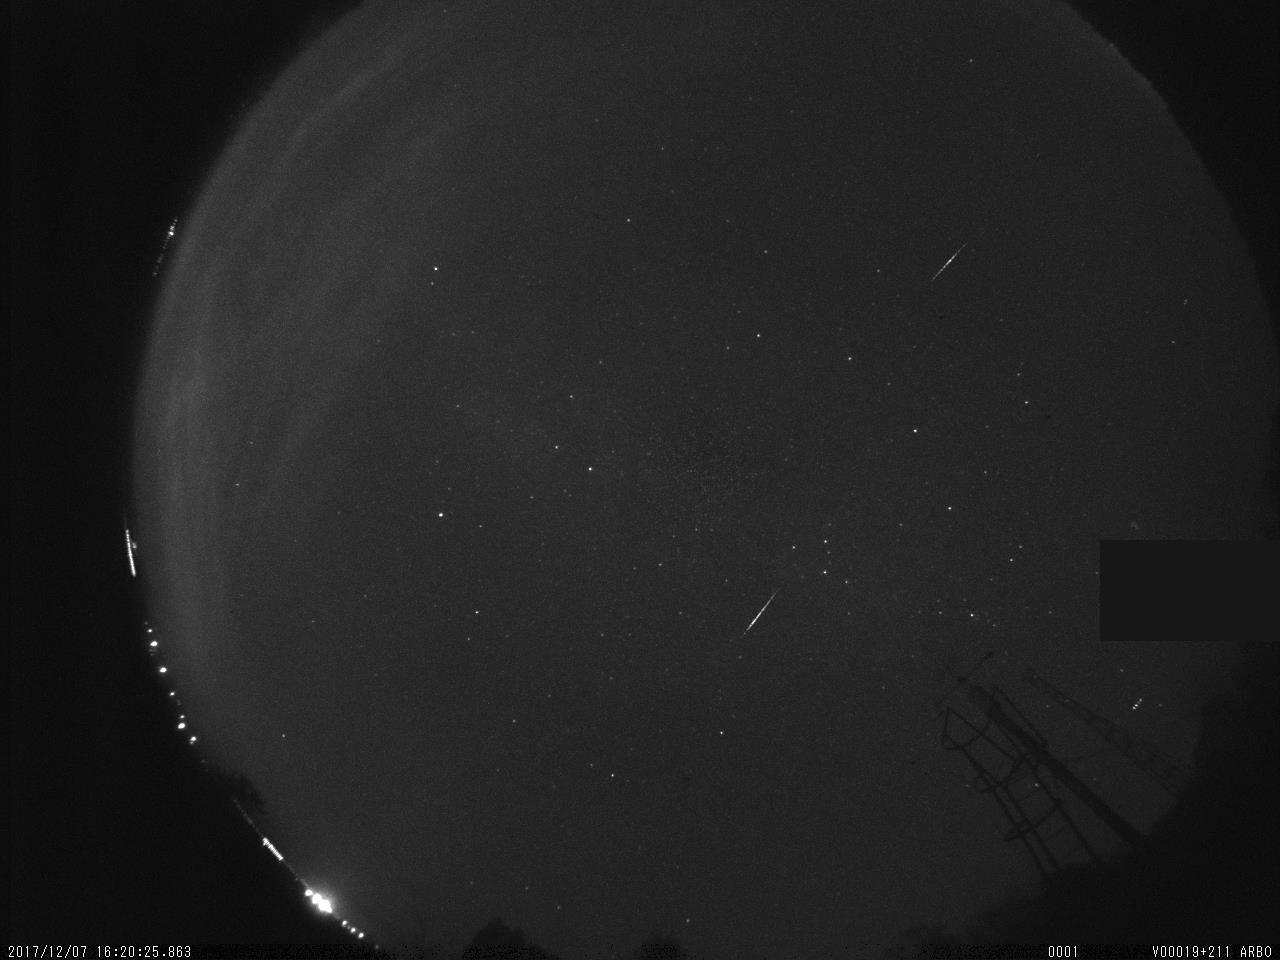meteor: (729, 565, 789, 661)
